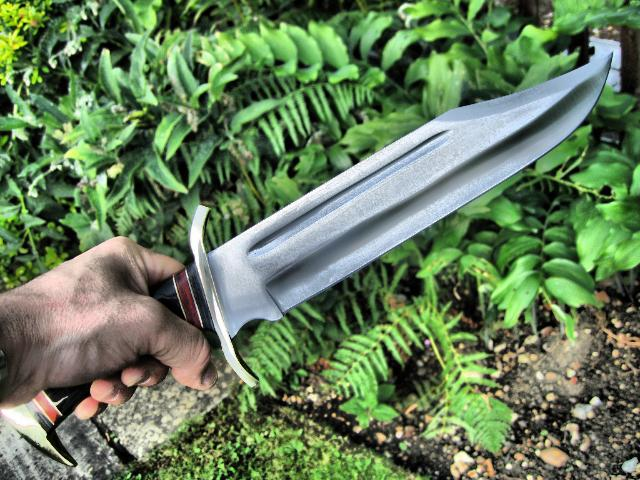knife: (109, 38, 622, 396)
